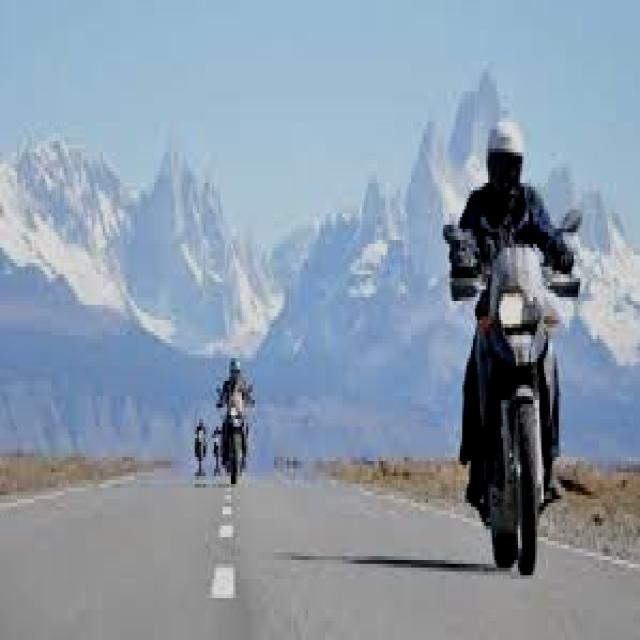MOTORCYCLE: (458, 266, 550, 570), (222, 388, 250, 482), (196, 428, 208, 475)
